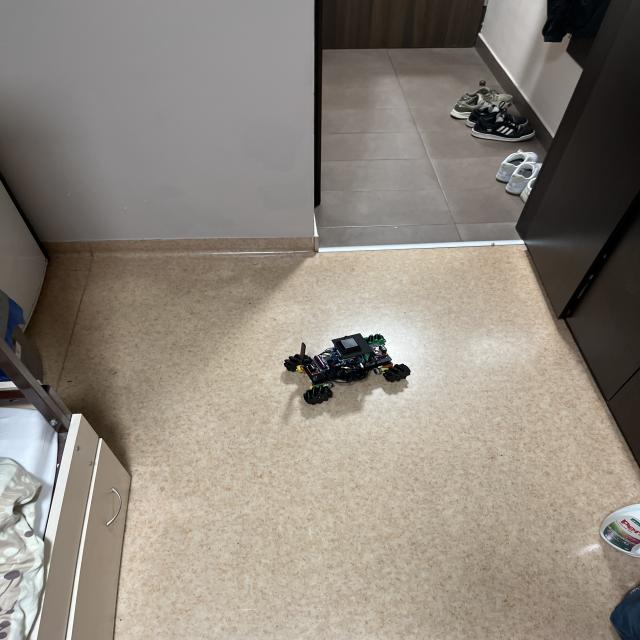robot: (284, 333, 410, 404)
